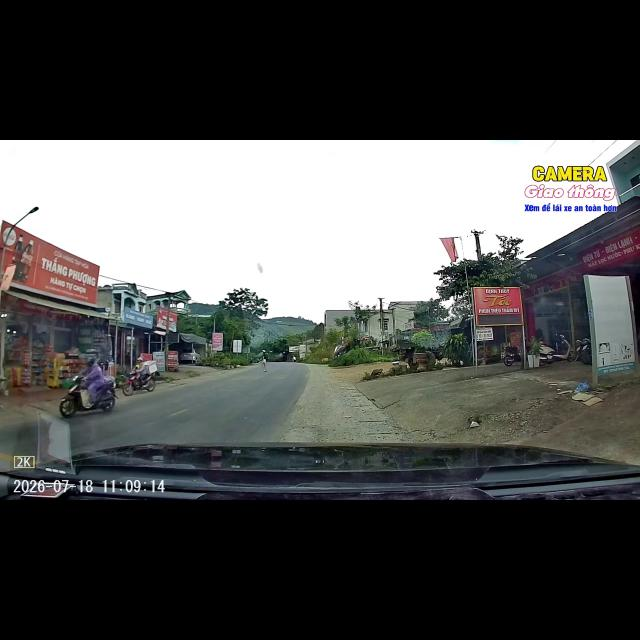motorcycle: (59, 376, 117, 417), (122, 361, 157, 395), (540, 334, 573, 363), (573, 338, 590, 364), (502, 346, 522, 366), (578, 339, 592, 364)
